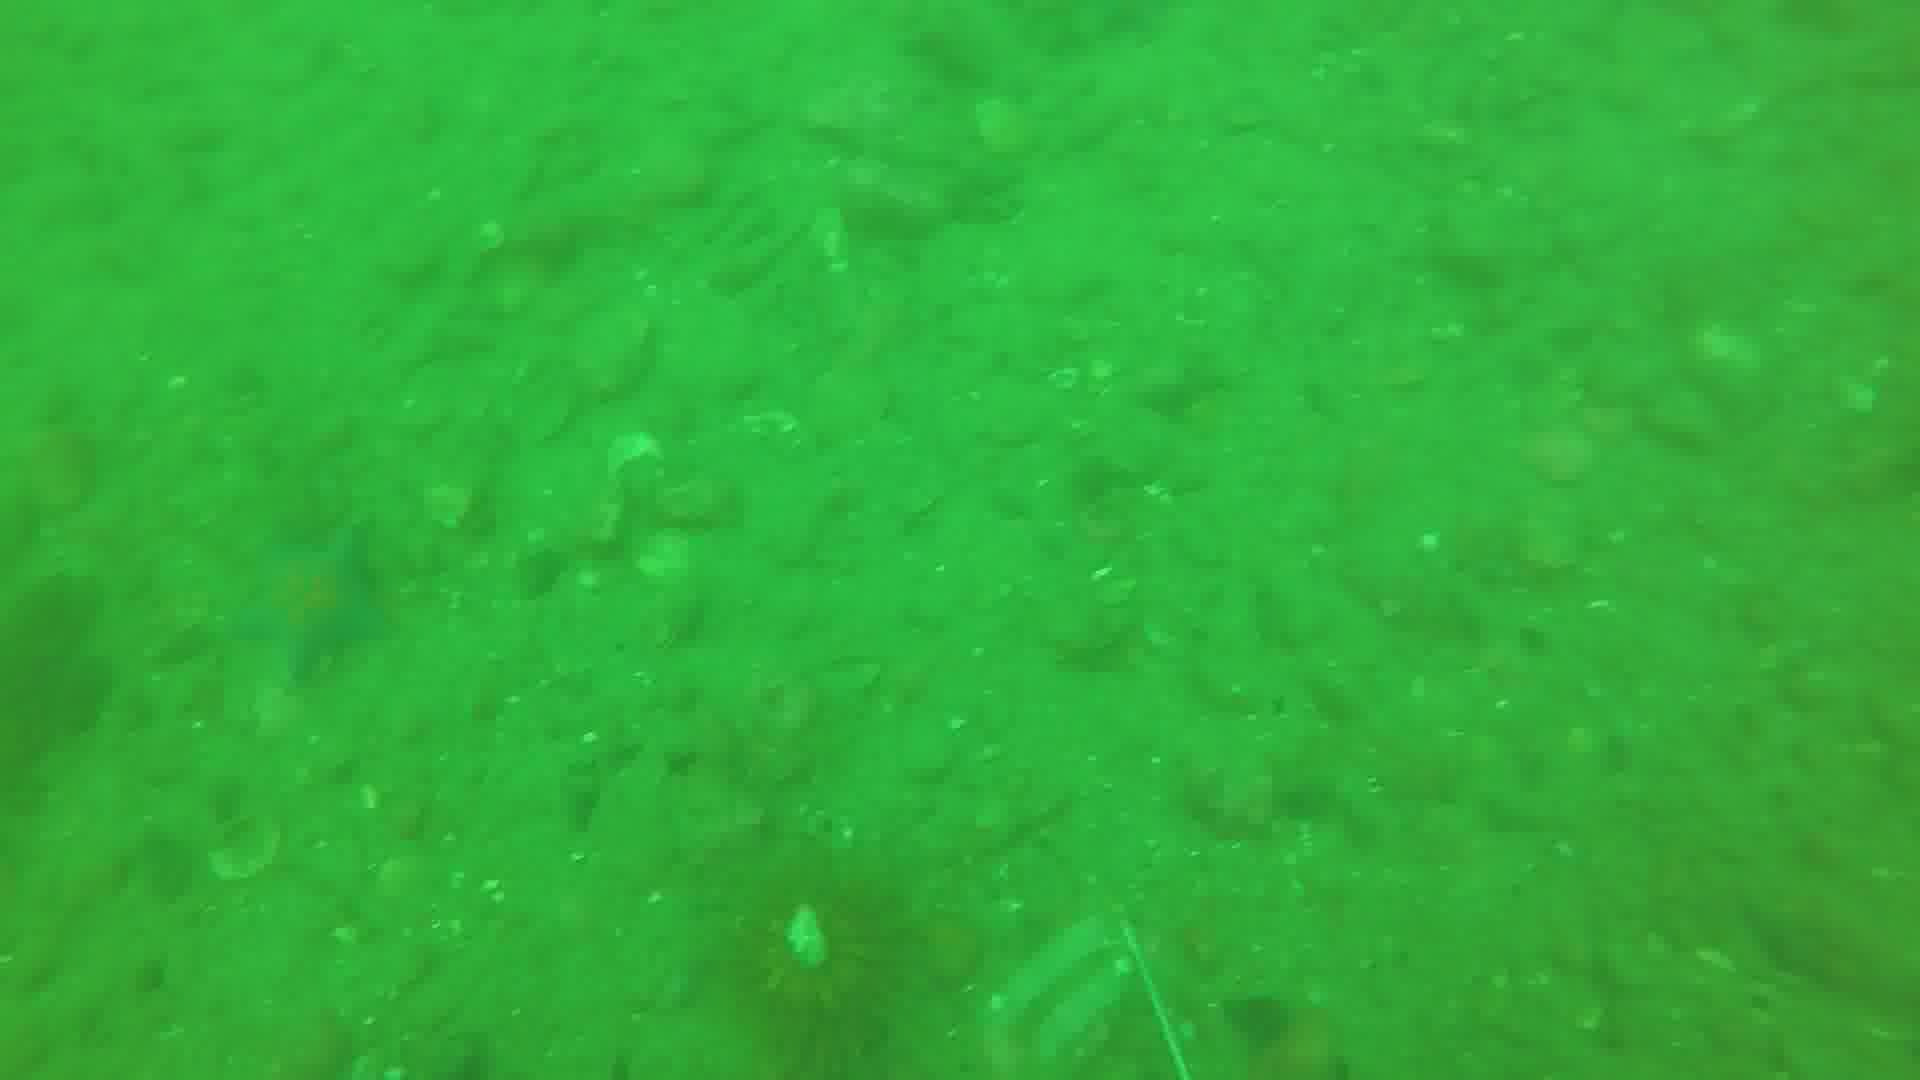echinus: (742, 869, 903, 1080)
scallop: (204, 823, 277, 887), (611, 430, 669, 504)
starfish: (235, 527, 407, 673)
